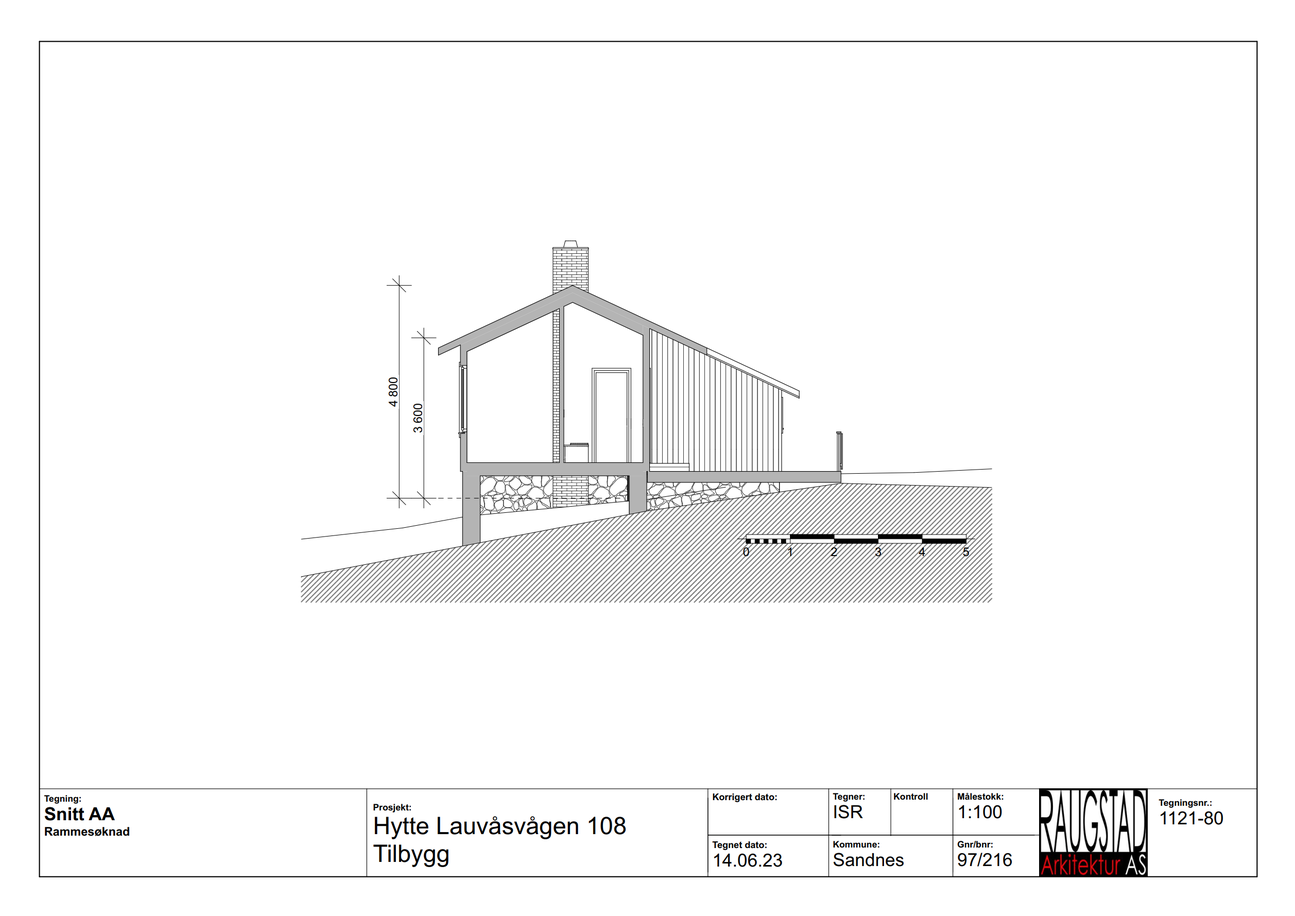snitt: (434, 238, 847, 607)
